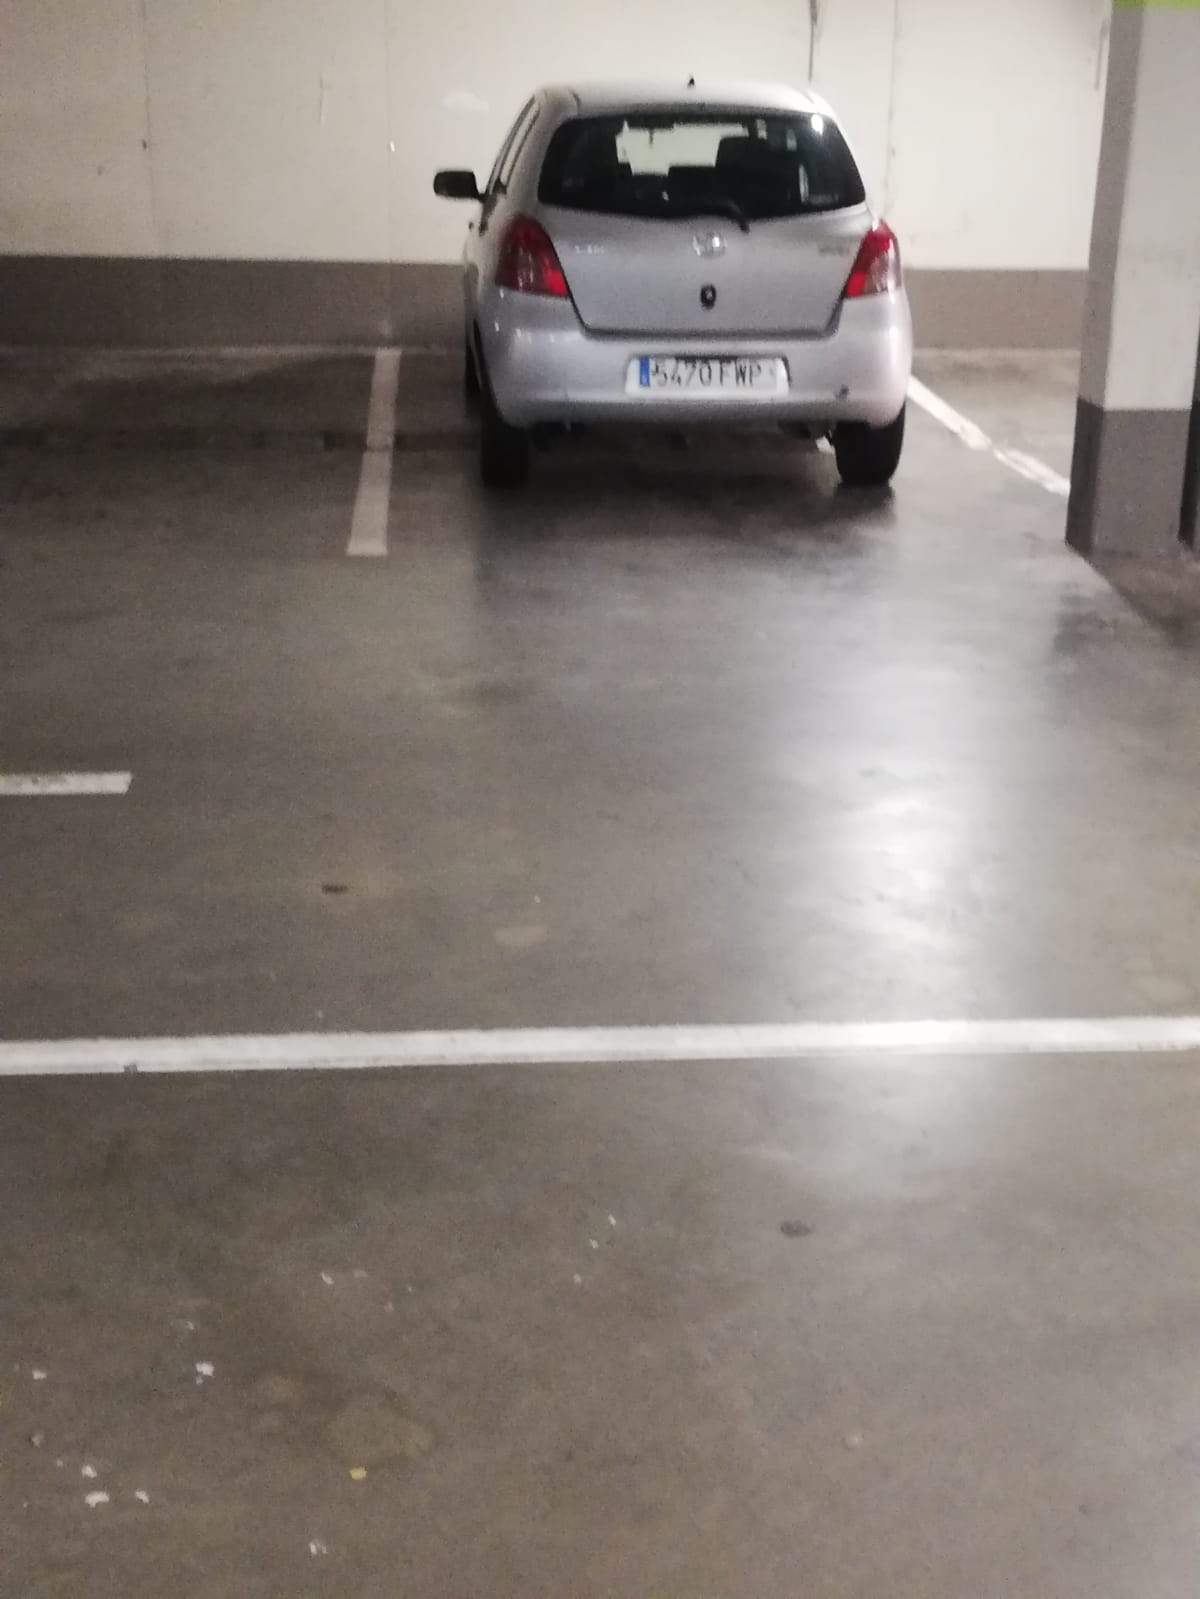Car: (451, 88, 898, 487)
Plate: (634, 357, 768, 390)
